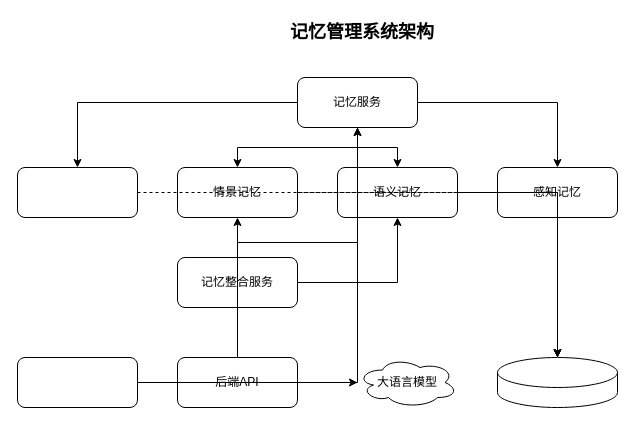
Image size: 635x425. Some labels were removed from this diagram. The centre of each missing label's shape, as x and y in pixels:
"关系数据库" belongs at pixel 557 382.
"多智能体" belongs at pixel 77 382.
"工作记忆" belongs at pixel 77 192.
